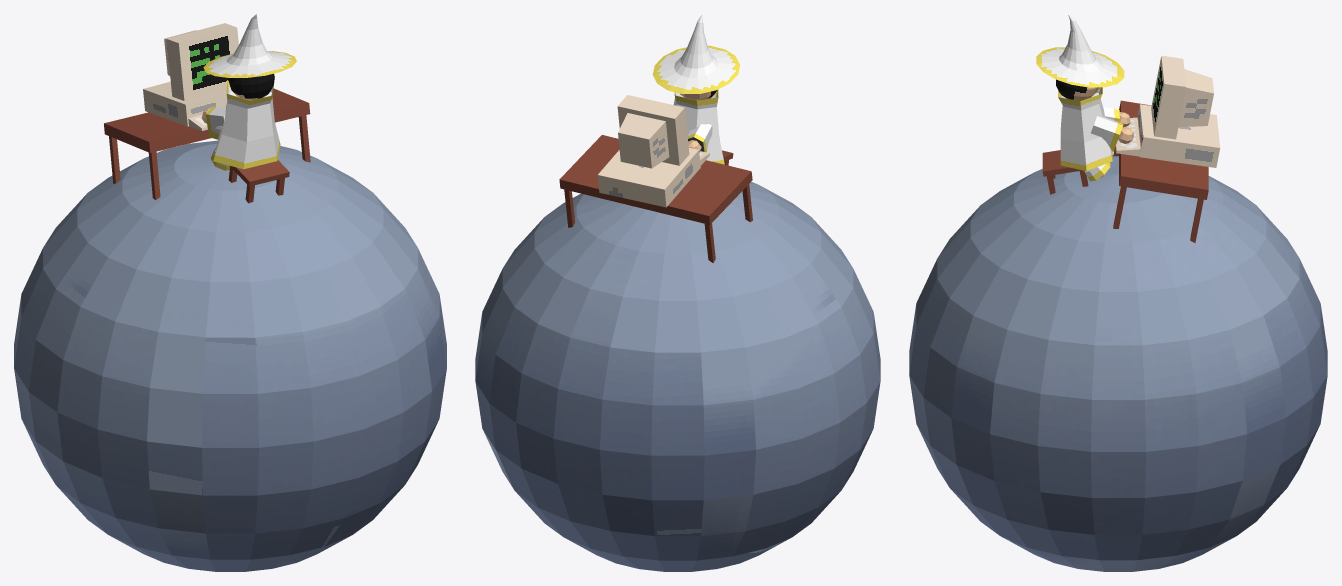
Rendered from workPlanet.gltf.
3 renders of one model, left to right at view 1: azimuth 30°, elevation 25°; view 2: azimuth 150°, elevation 25°; view 3: azimuth 270°, elevation 25°, orthographic. The views are drawn at different scales.
Parts seen in each view (by area): view 1: Planet, top (×2), coat, screenFront, hat, BigBox, head; view 2: Planet, top, hat, BigBox, screenBack, screenFront, coat; view 3: Planet, top (×2), hat, coat, BigBox, screenFront, screenBack, arm-left, head, keyboard.
Part boxes in pixels (bbox=[...]): Planet: bbox=[14, 140, 446, 571]; top (×2): bbox=[104, 88, 310, 186]; coat: bbox=[213, 80, 280, 169]; screenFront: bbox=[166, 23, 238, 100]; hat: bbox=[203, 14, 296, 77]; BigBox: bbox=[143, 81, 227, 126]; head: bbox=[228, 73, 274, 100]; Planet: bbox=[475, 181, 880, 571]; top: bbox=[559, 135, 752, 224]; hat: bbox=[652, 14, 739, 93]; BigBox: bbox=[597, 147, 700, 207]; screenBack: bbox=[618, 113, 669, 168]; screenFront: bbox=[617, 95, 689, 165]; coat: bbox=[673, 89, 724, 164]; Planet: bbox=[909, 155, 1327, 571]; top (×2): bbox=[1042, 100, 1208, 199]; hat: bbox=[1036, 14, 1124, 87]; coat: bbox=[1058, 87, 1112, 171]; BigBox: bbox=[1137, 104, 1220, 167]; screenFront: bbox=[1151, 55, 1186, 139]; screenBack: bbox=[1178, 69, 1213, 127]; arm-left: bbox=[1091, 115, 1123, 151]; head: bbox=[1056, 79, 1098, 100]; keyboard: bbox=[1115, 117, 1140, 156].
Size of the model in its own units: 4.69 by 6.66 by 4.69.
Materials: 4 (4 with a texture image).
